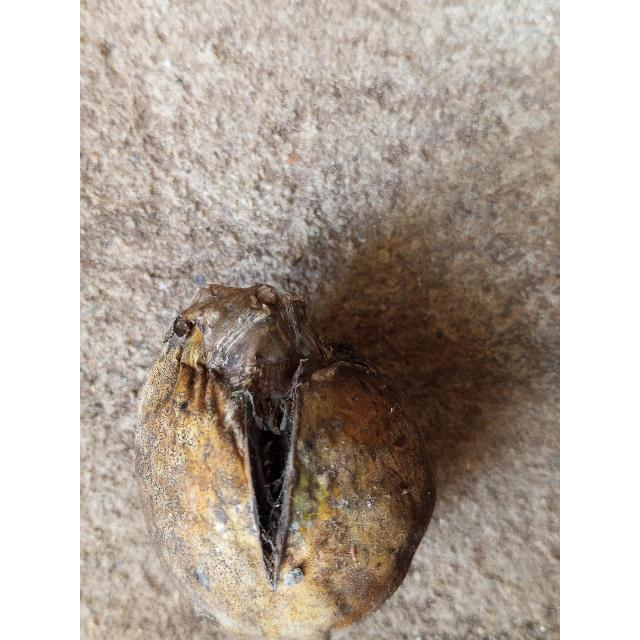damaged: (138, 283, 439, 640)
